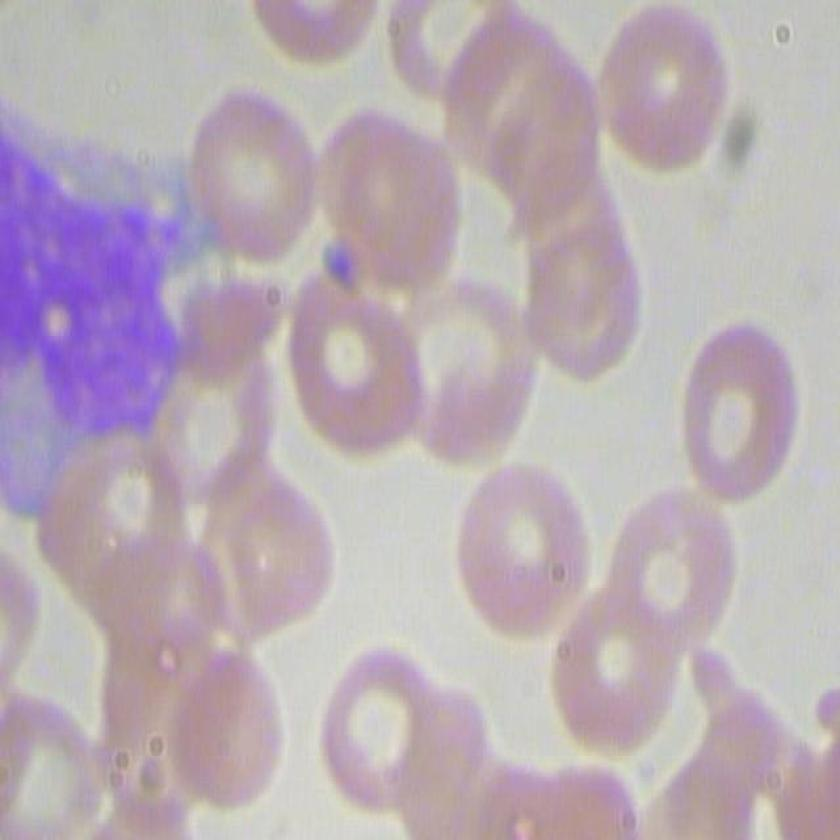monocyte: (1, 85, 257, 542)
